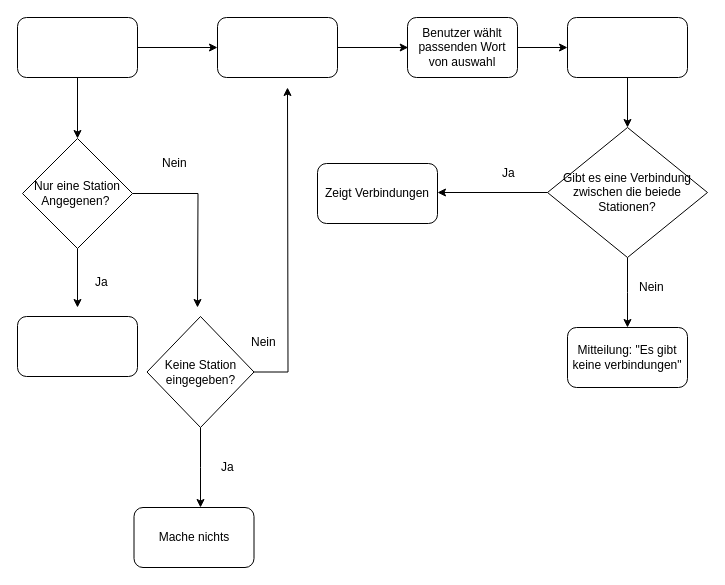
The diagram is 725 pixels wide and 585 high, and some of its shapes have lost their labels. The centre of each missing label's shape, as x and y in pixels:
"Gibt Start- und Endstation ein" belongs at (x=77, y=47).
"Programm ruft datenbank ab" belongs at (x=627, y=47).
"Programm sucht passenden Wort" belongs at (x=277, y=47).
"Zeige alle verbindungen aus oder zur diese Station" belongs at (x=77, y=346).
